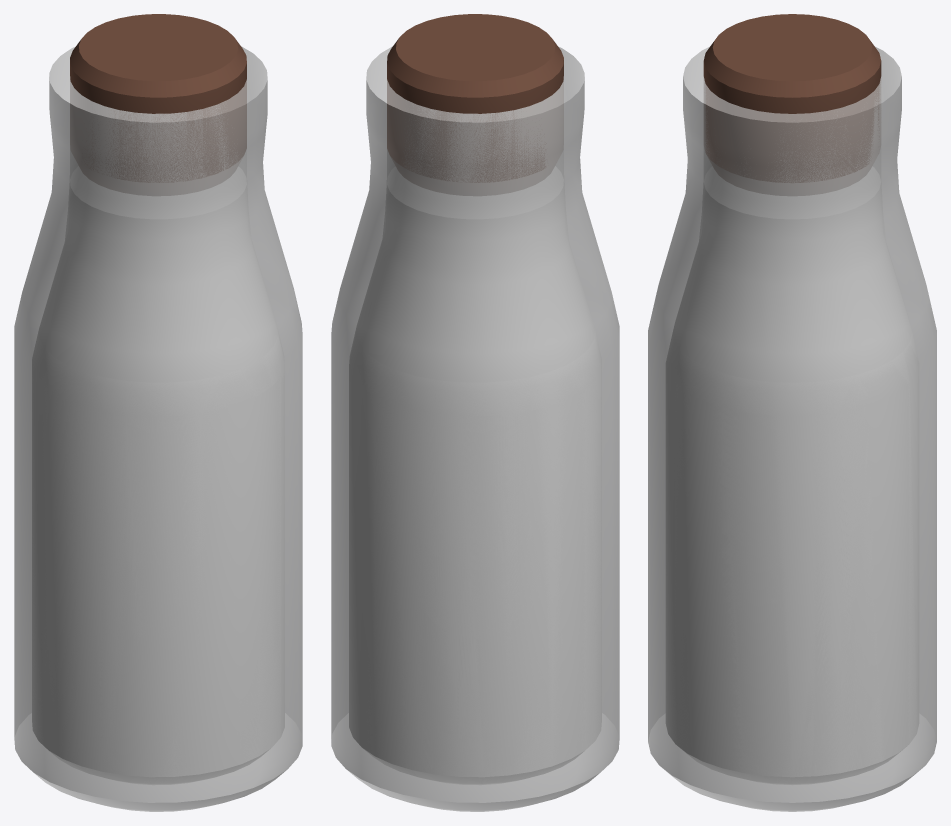
The model's file is glassMilk.fbx.
3 renders of one model, left to right at view 1: azimuth 30°, elevation 25°; view 2: azimuth 150°, elevation 25°; view 3: azimuth 270°, elevation 25°, orthographic.
Visible parts, largest first — view 1: Bottle, Milk; view 2: Bottle, Milk; view 3: Bottle, Milk.
Part boxes in pixels (<box>): Bottle: <box>14,46,302,811</box>; Milk: <box>32,14,284,784</box>; Bottle: <box>331,46,619,811</box>; Milk: <box>358,14,601,784</box>; Bottle: <box>648,46,936,811</box>; Milk: <box>666,14,918,784</box>.
Bounding box in the file's own units: 239 × 659 × 239.
